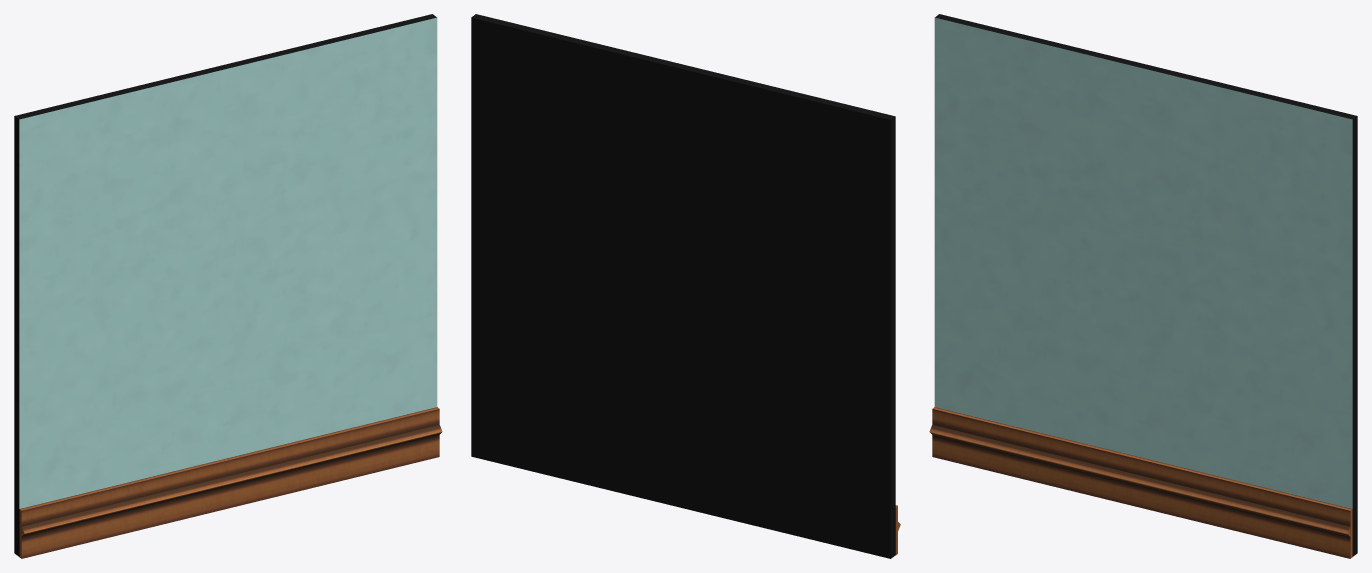
The model's file is Wall_C_01.FBX.
3 renders of one model, left to right at view 1: azimuth 30°, elevation 25°; view 2: azimuth 150°, elevation 25°; view 3: azimuth 330°, elevation 25°, orthographic.
Visible parts, largest first — view 1: Wall_A_01; view 2: Wall_A_01; view 3: Wall_A_01.
Part boxes in pixels (box(x1,y1,x2,y2)): Wall_A_01: box(14, 14, 442, 558); Wall_A_01: box(471, 14, 900, 558); Wall_A_01: box(929, 14, 1357, 558).
Size of the model in its own units: 500 by 500 by 20.82.
